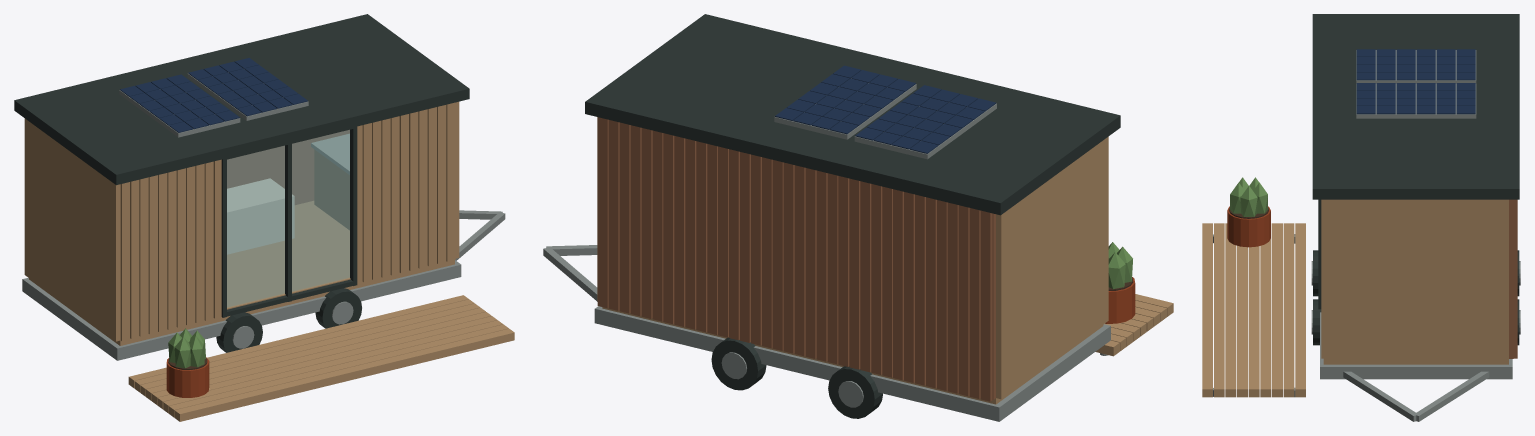
The model's file is studio.glb.
3 renders of one model, left to right at view 1: azimuth 30°, elevation 25°; view 2: azimuth 150°, elevation 25°; view 3: azimuth 270°, elevation 25°, orthographic. The views are drawn at different scales.
Parts seen in each view (by area): view 1: studio_Modrin, studio_Antracit, studio_Sklo, studio_Ocel, studio_Solarni clanky, studio_Len, studio_Cedr, studio_Corten, studio_Zelen, studio_Kamen; view 2: studio_Cedr, studio_Antracit, studio_Modrin, studio_Ocel, studio_Solarni clanky, studio_Corten, studio_Zelen; view 3: studio_Modrin, studio_Antracit, studio_Solarni clanky, studio_Ocel, studio_Cedr, studio_Corten, studio_Zelen.
Part boxes in pixels (x1,y1,x2,y2): studio_Modrin: (24,101,514,421); studio_Antracit: (14,14,469,352); studio_Sklo: (227,130,349,307); studio_Ocel: (22,72,505,360); studio_Solarni clanky: (120,58,307,132); studio_Len: (227,178,294,254); studio_Cedr: (227,130,349,204); studio_Corten: (166,357,209,397); studio_Zelen: (168,328,205,368); studio_Kamen: (311,133,349,174); studio_Cedr: (597,117,995,401); studio_Antracit: (585,14,1120,418); studio_Modrin: (597,117,1173,404); studio_Ocel: (543,78,1110,421); studio_Solarni clanky: (775,65,996,153); studio_Corten: (1105,277,1135,323); studio_Zelen: (1108,242,1132,288); studio_Modrin: (1202,199,1508,397); studio_Antracit: (1312,14,1519,345); studio_Solarni clanky: (1356,49,1475,114); studio_Ocel: (1213,50,1520,421); studio_Cedr: (1509,199,1517,358); studio_Corten: (1227,206,1270,247); studio_Zelen: (1230,177,1267,216).
Bounding box in the file's own units: 7.07 × 3.4 × 4.38.
